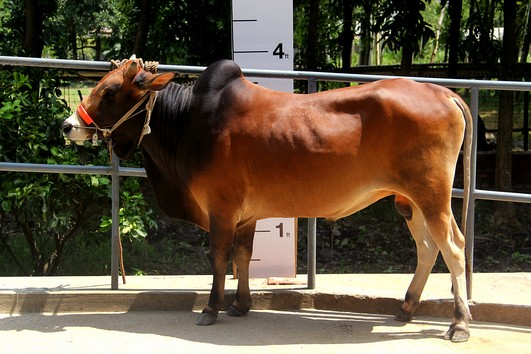cow: (61, 38, 478, 340)
